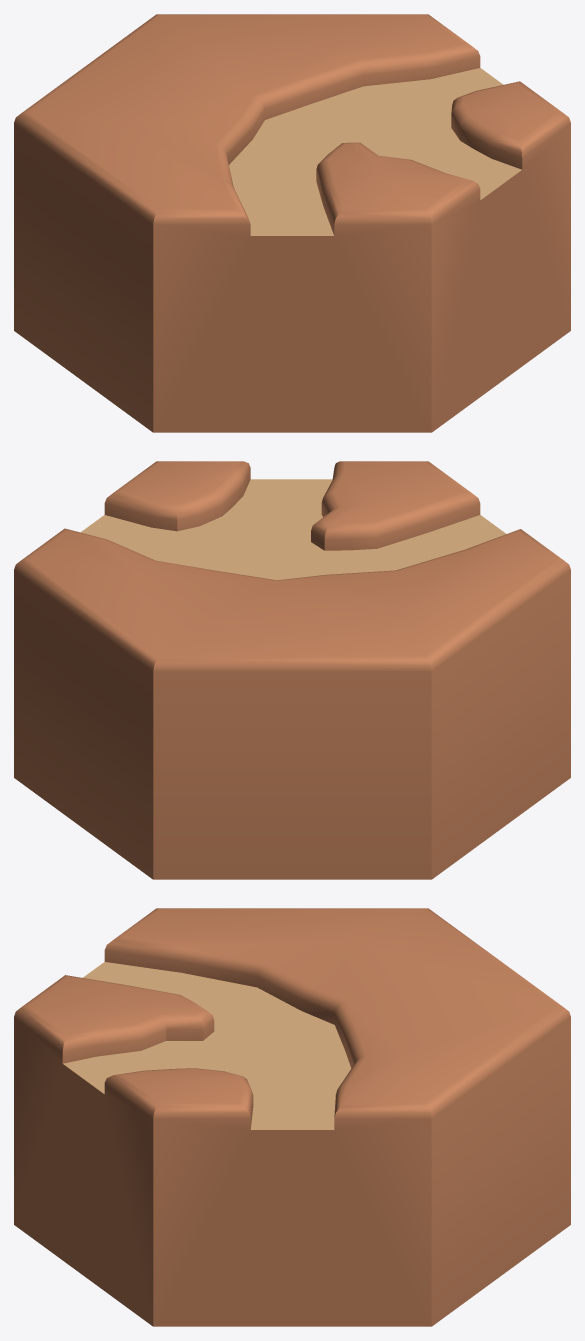
File: hex_rock_roadH.glb
The picture shows the model from 3 angles, top to bottom: view 1: azimuth 30°, elevation 25°; view 2: azimuth 150°, elevation 25°; view 3: azimuth 270°, elevation 25°; orthographic projection.
Parts seen in each view (by area): view 1: hex_rock_roadH; view 2: hex_rock_roadH; view 3: hex_rock_roadH.
Boxes of the visible parts, x1,y1,x2,y2 form: hex_rock_roadH: (14, 14, 570, 432); hex_rock_roadH: (14, 461, 570, 879); hex_rock_roadH: (14, 908, 570, 1326).
Size of the model in its own units: 3.82 by 1.91 by 4.41.
